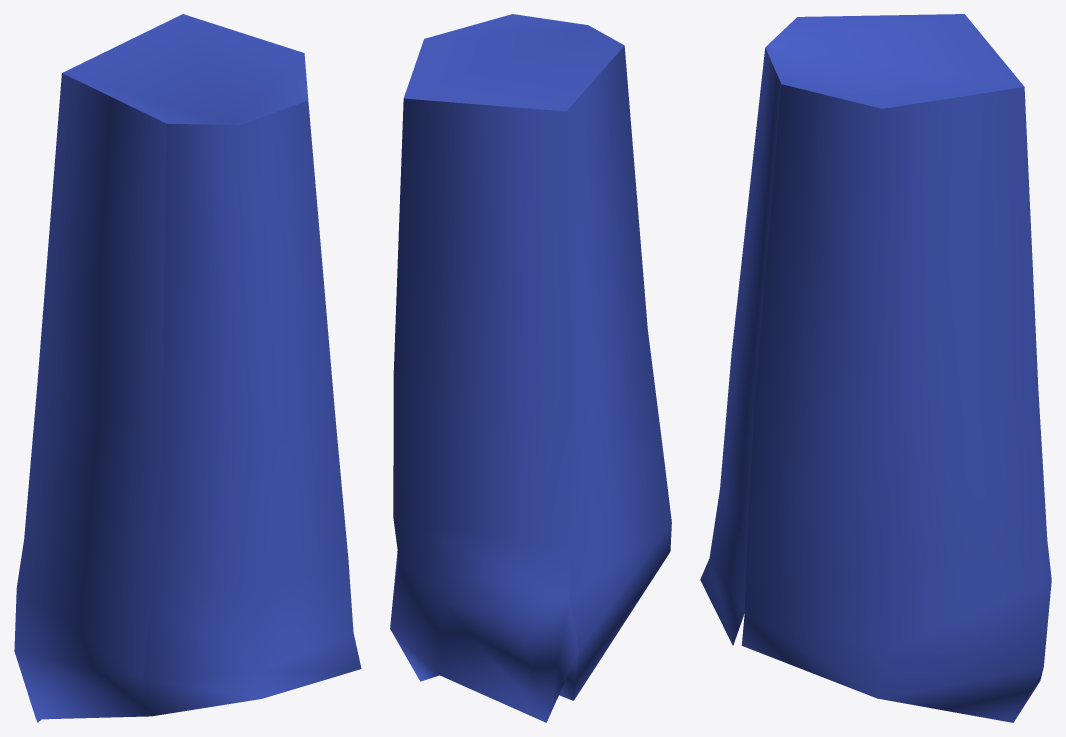
The model's file is right_forearm.glb.
The picture shows the model from 3 angles, left to right: view 1: azimuth 30°, elevation 25°; view 2: azimuth 150°, elevation 25°; view 3: azimuth 270°, elevation 25°; orthographic projection. The views are drawn at different scales.
Visible parts, largest first — view 1: sweater-blue_RIGHT_FOREARM; view 2: sweater-blue_RIGHT_FOREARM; view 3: sweater-blue_RIGHT_FOREARM.
Boxes of the visible parts, <box> form: sweater-blue_RIGHT_FOREARM: <box>14,14,361,722</box>; sweater-blue_RIGHT_FOREARM: <box>390,14,671,722</box>; sweater-blue_RIGHT_FOREARM: <box>700,14,1051,722</box>.
Bounding box in the file's own units: 0.1155 × 0.2921 × 0.1406.
Materials: 1 (1 with a texture image).
